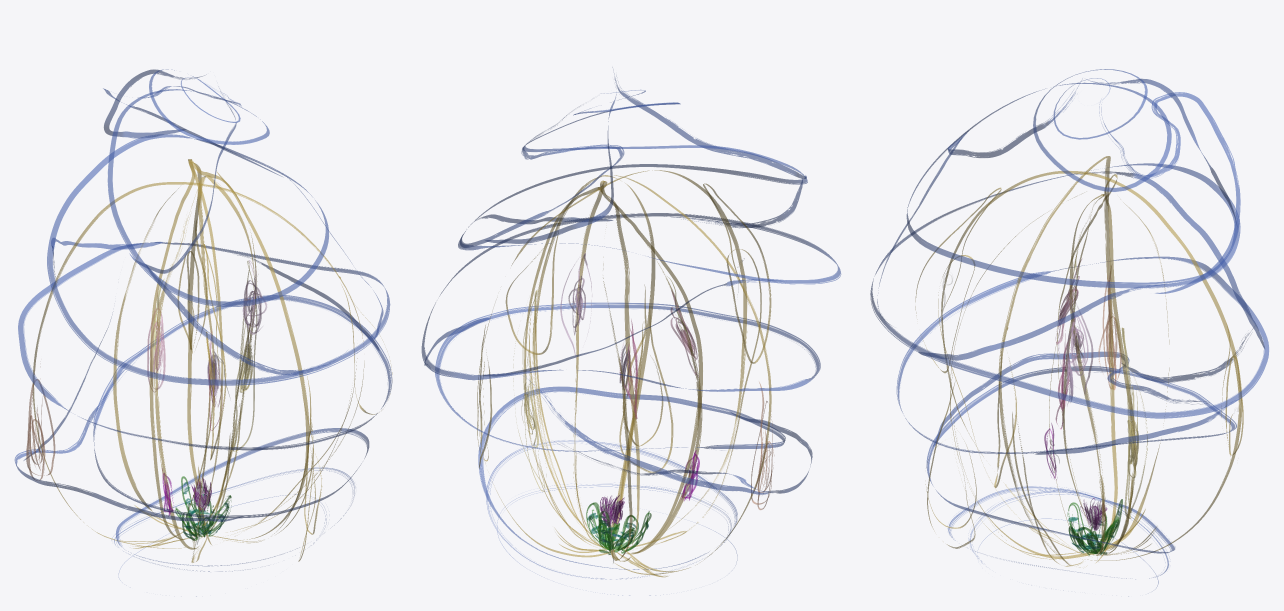
The picture shows the model from 3 angles, left to right: view 1: azimuth 30°, elevation 25°; view 2: azimuth 150°, elevation 25°; view 3: azimuth 270°, elevation 25°; orthographic projection. The views are drawn at different scales.
Parts seen in each view (by area): view 1: brush_VelvetInk_g0_b0_0; view 2: brush_VelvetInk_g0_b0_0; view 3: brush_VelvetInk_g0_b0_0.
Boxes of the visible parts, box(x1,y1,x2,y2) form: brush_VelvetInk_g0_b0_0: box(14, 69, 392, 596); brush_VelvetInk_g0_b0_0: box(421, 67, 840, 595); brush_VelvetInk_g0_b0_0: box(870, 69, 1268, 596).
Bounding box in the file's own units: 2.78 × 4.23 × 2.75.
1 material, 1 textured.
